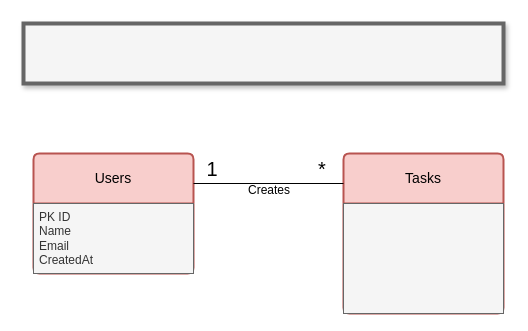
Some shapes in this 528 by 331 pixel diagram are drawn without their labels. The centre of each missing label's shape, as x and y in pixels:
"Crow's Foot ERD" goes at pixel 264 54.
"PK ID Title Description Statu DueDate FK UserId Created At" goes at pixel 423 258.
